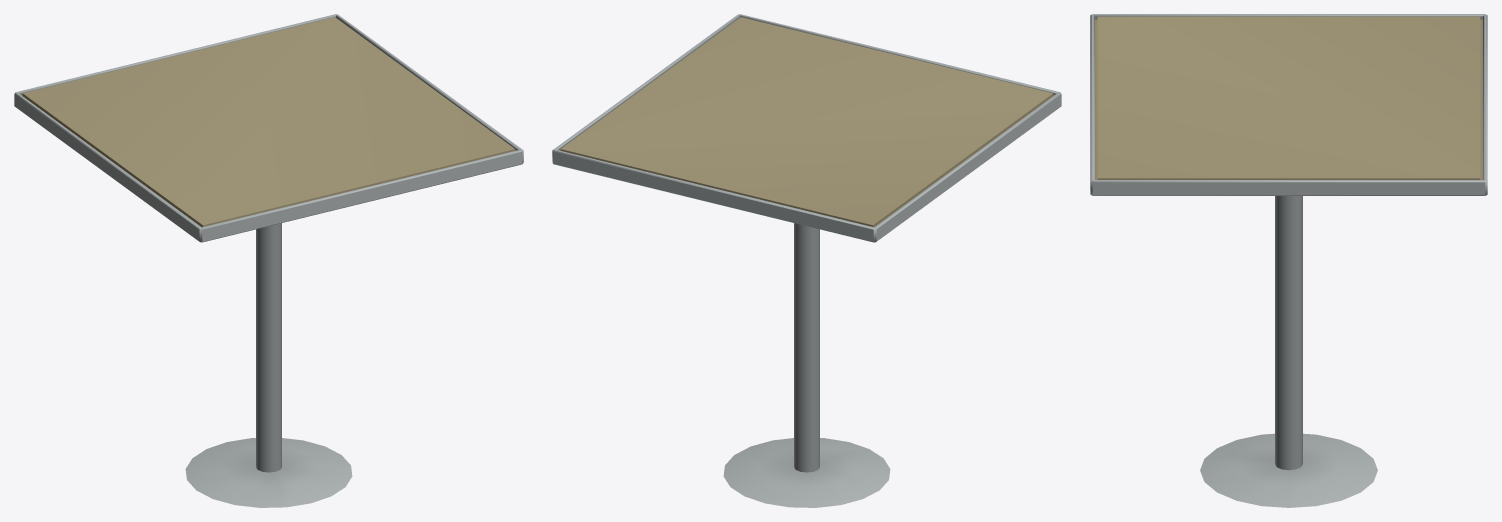
Rendered from rest-table-2.glb.
3 views of the same model, side by side, from view 1: azimuth 30°, elevation 25°; view 2: azimuth 150°, elevation 25°; view 3: azimuth 270°, elevation 25° (orthographic). The views are drawn at different scales.
Visible parts, largest first — view 1: top__plastic, base__chrome; view 2: top__plastic, base__chrome; view 3: top__plastic, base__chrome.
Part boxes in pixels (<box>): top__plastic: <box>21,17,515,227</box>; base__chrome: <box>14,14,523,507</box>; top__plastic: <box>560,17,1054,227</box>; base__chrome: <box>552,14,1061,507</box>; top__plastic: <box>1095,16,1482,179</box>; base__chrome: <box>1090,14,1487,507</box>.
Bounding box in the file's own units: 0.714 × 0.74 × 0.714.
